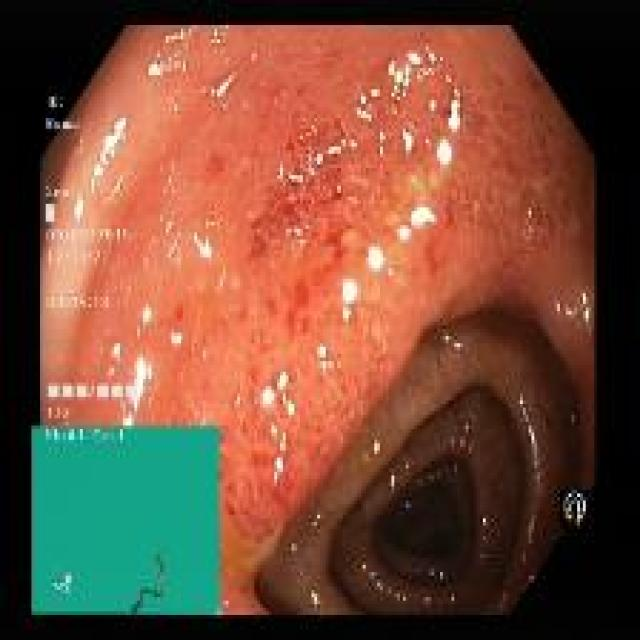ulcerative-colitis: (41, 27, 594, 613)
